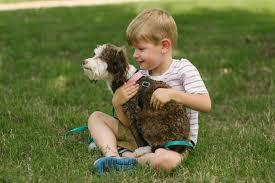child: (74, 7, 210, 178)
